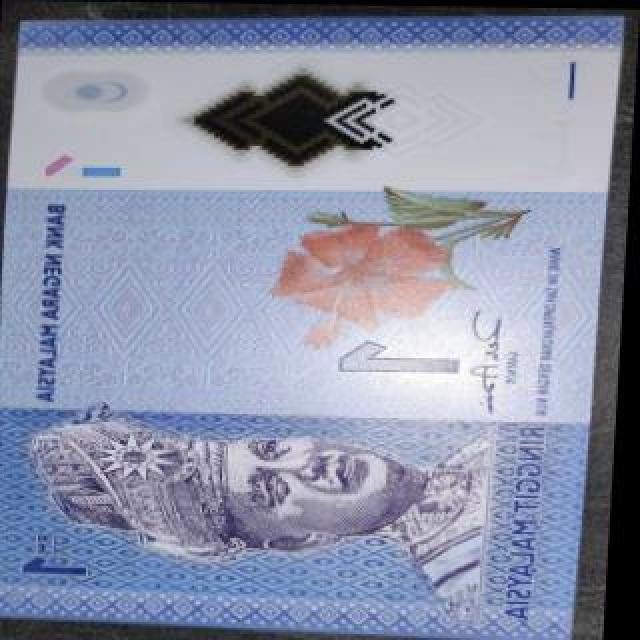1 Ringgit: (0, 6, 630, 640)
